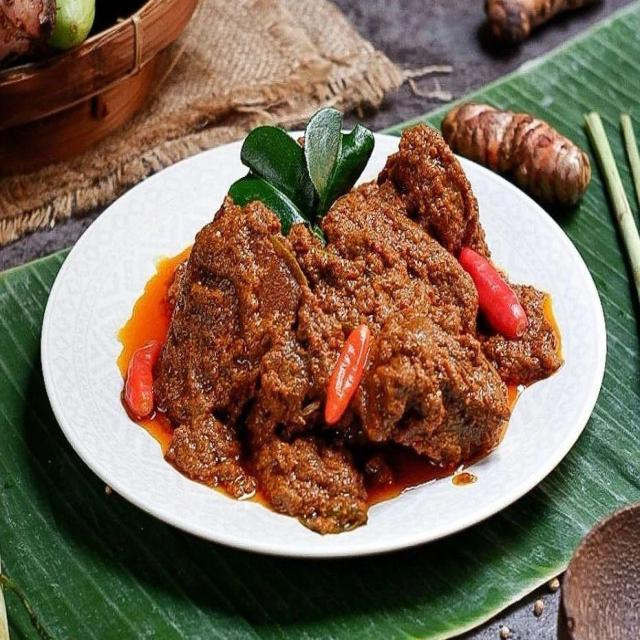Rendang: (147, 114, 562, 531)
